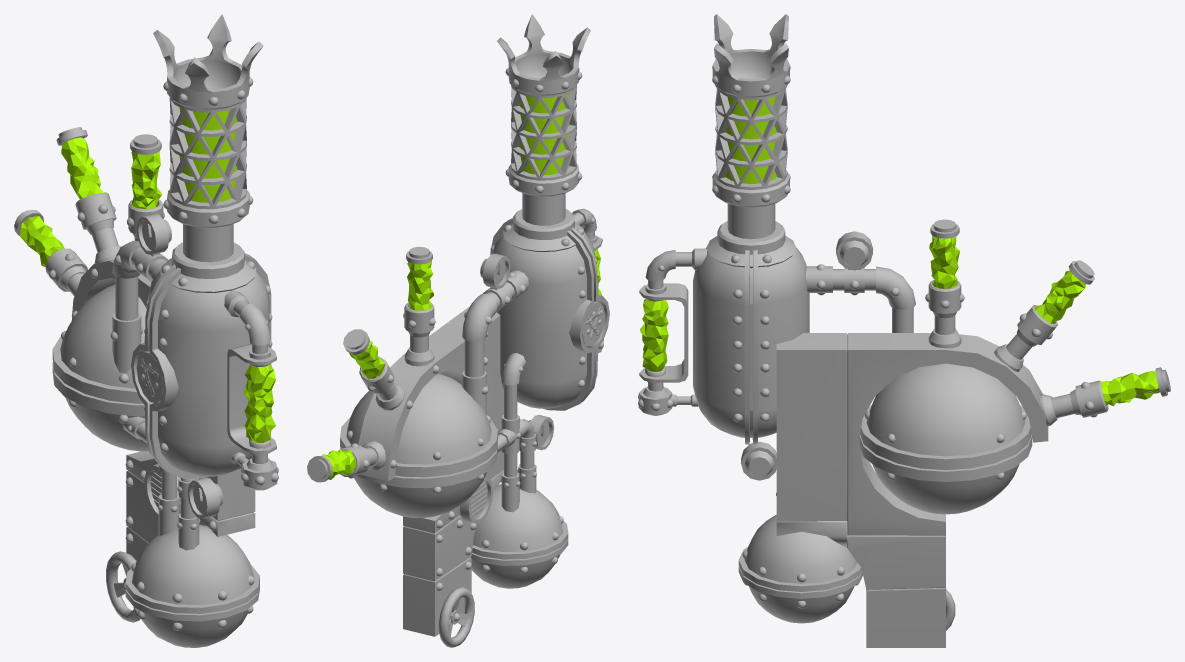
The model's file is Backpack.fbx.
3 views of the same model, side by side, from view 1: azimuth 30°, elevation 25°; view 2: azimuth 150°, elevation 25°; view 3: azimuth 270°, elevation 25° (orthographic). The views are drawn at different scales.
Visible parts, largest first — view 1: pBackpack; view 2: pBackpack; view 3: pBackpack.
Boxes of the visible parts, box(x1,y1,x2,y2) form: pBackpack: box(14, 14, 278, 647); pBackpack: box(307, 14, 609, 647); pBackpack: box(638, 14, 1170, 647).
Bounding box in the file's own units: 39.93 × 136 × 108.
